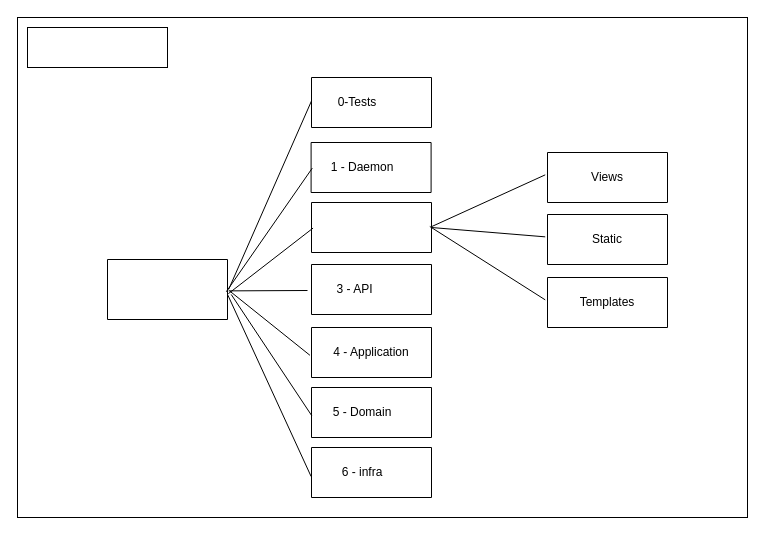
The diagram is 765 pixels wide and 535 high, and some of its shapes have lost their labels. Each missing label, with the centre of its shape:
2 - Presentation: (371,227)
src: (167,289)
Vinicius Andrade 14/12/2024: (97,47)
